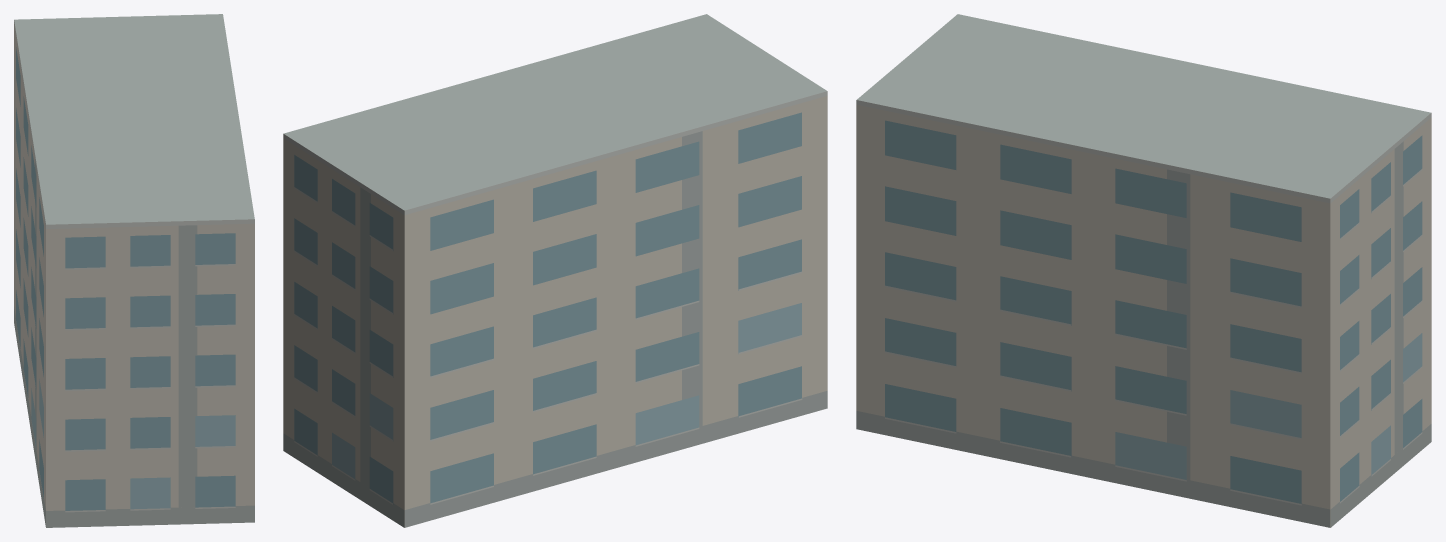
File: survey-upis-33014573.glb
3 renders of one model, left to right at view 1: azimuth 30°, elevation 25°; view 2: azimuth 150°, elevation 25°; view 3: azimuth 270°, elevation 25°, orthographic. The views are drawn at different scales.
Parts seen in each view (by area): view 1: survey-upis-33014573.tmp; view 2: survey-upis-33014573.tmp; view 3: survey-upis-33014573.tmp.
Boxes of the visible parts, x1=… form: survey-upis-33014573.tmp: x1=14, y1=14, x2=254, y2=527; survey-upis-33014573.tmp: x1=283, y1=14, x2=827, y2=527; survey-upis-33014573.tmp: x1=856, y1=14, x2=1431, y2=527.
Bounding box in the file's own units: 20.22 × 16.8 × 26.61.
